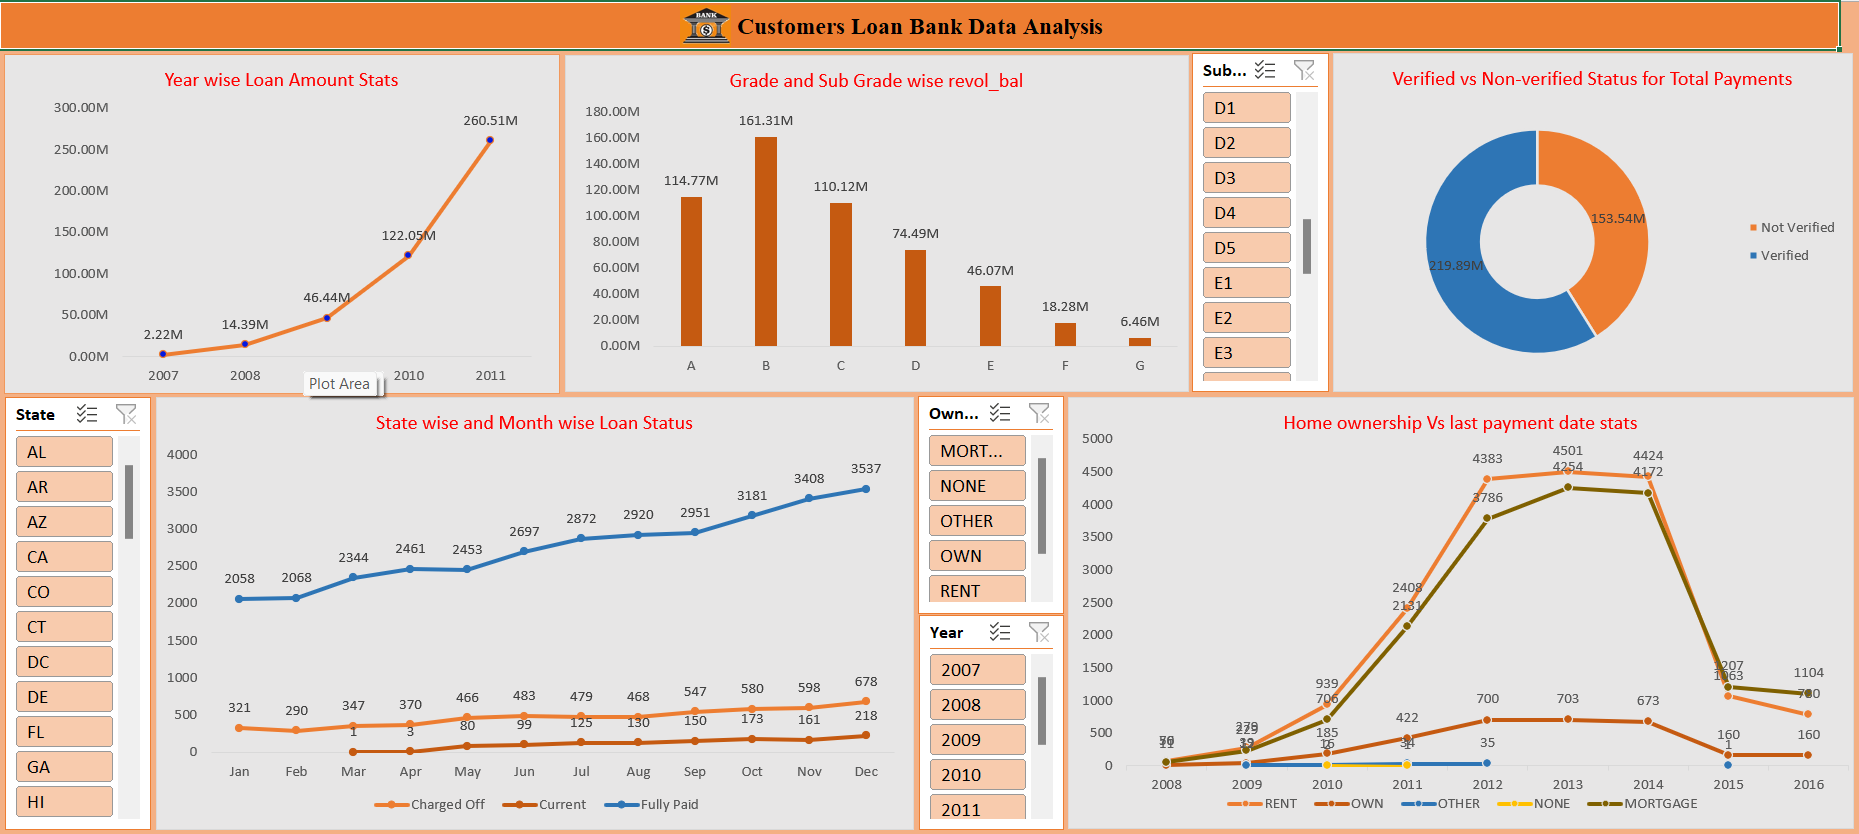

What the dashboard file says about the page in this screenshot:
{"tool":"tableau","page":{"name":"Dashboard 1","canvas":[1000,1000],"units":"permille","ordinal":0},"visuals":[{"type":"image","param":"Image/bank.png","box":[3,8.2,52.2,98.7]},{"type":"worksheet","title":"KPI 5","mark":"Automatic","rows":["last_pymnt_amnt"],"cols":["last_pymnt_d"],"box":[670.9,8.2,325.5,471.2]},{"type":"filter","title":"KPI 1","param":"[federated.1c0ngw003mx1r51dfnvrl0tm3n2h].[none:loan_status:nk]","box":[455.6,22.3,96.5,68.2]},{"type":"filter","title":"KPI 5","param":"[federated.1c0ngw003mx1r51dfnvrl0tm3n2h].[none:home_ownership:nk]","box":[561.8,22.3,95.9,71.7]},{"type":"text","box":[64.8,34.1,379.5,59.9]},{"type":"legend","title":"KPI 5","param":"[federated.1c0ngw003mx1r51dfnvrl0tm3n2h].[none:home_ownership:nk]","box":[673.9,61.1,66,128.1]},{"type":"worksheet","title":"KPI 2","mark":"Shape","rows":["revol_bal"],"cols":["grade"],"box":[3.6,115.2,309.4,880.1]},{"type":"worksheet","title":"KPI 1","mark":"Line","rows":["loan_amnt"],"cols":["issue_d"],"box":[316.6,115.2,173.9,365.4]},{"type":"worksheet","title":"KPI 3","mark":"Pie","rows":["Calculation_211669193143468032","Calculation_211669193143468032"],"box":[493.4,115.2,173.3,364.3]},{"type":"worksheet","title":"Total","mark":"Automatic","box":[233.2,181,66.5,386.6]},{"type":"worksheet","title":"KPI 4","mark":"Bar","rows":["loan_status"],"cols":["addr_state"],"box":[315.9,486.5,681.1,507.6]},{"type":"filter","title":"KPI 2","param":"[federated.1c0ngw003mx1r51dfnvrl0tm3n2h].[yr:issue_d:ok]","box":[891.5,566.4,96.5,69.3]},{"type":"legend","title":"KPI 4","param":"[federated.1c0ngw003mx1r51dfnvrl0tm3n2h].[yr:issue_d:ok]","box":[503,580.5,363.9,32.9]}]}

Visuals, with their boxes on the dashboard's canvas, which has no fixed pixel size, in thousandths of its width and height (x1, y1, x2, y2). These are canvas units, not pixel positions in the 1859x834 screenshot, which may show the page scaled, cropped or inside an application window:
image: {"x1": 3, "y1": 8, "x2": 55, "y2": 107}
"KPI 5" worksheet: {"x1": 671, "y1": 8, "x2": 996, "y2": 479}
"KPI 1" filter: {"x1": 456, "y1": 22, "x2": 552, "y2": 90}
"KPI 5" filter: {"x1": 562, "y1": 22, "x2": 658, "y2": 94}
text: {"x1": 65, "y1": 34, "x2": 444, "y2": 94}
"KPI 5" legend: {"x1": 674, "y1": 61, "x2": 740, "y2": 189}
"KPI 2" worksheet (Shape marks): {"x1": 4, "y1": 115, "x2": 313, "y2": 995}
"KPI 1" worksheet (Line marks): {"x1": 317, "y1": 115, "x2": 490, "y2": 481}
"KPI 3" worksheet (Pie marks): {"x1": 493, "y1": 115, "x2": 667, "y2": 480}
"Total" worksheet: {"x1": 233, "y1": 181, "x2": 300, "y2": 568}
"KPI 4" worksheet (Bar marks): {"x1": 316, "y1": 486, "x2": 997, "y2": 994}
"KPI 2" filter: {"x1": 892, "y1": 566, "x2": 988, "y2": 636}
"KPI 4" legend: {"x1": 503, "y1": 580, "x2": 867, "y2": 613}
